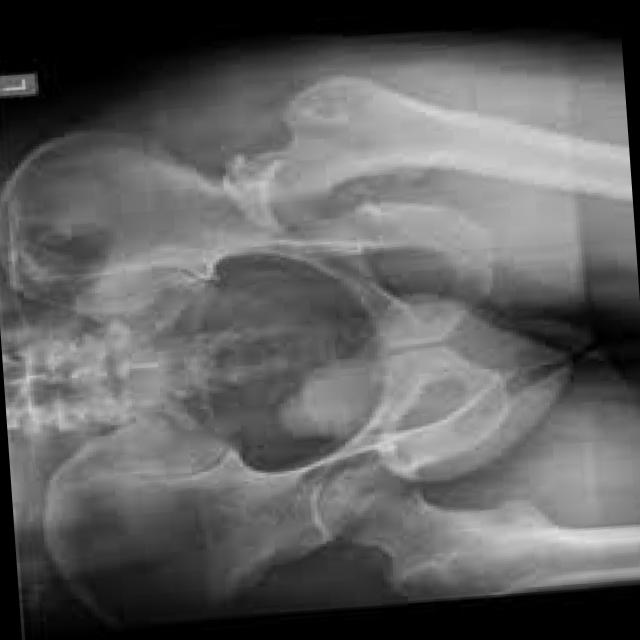left-dislocation: (220, 75, 574, 227)
normal-right: (320, 463, 640, 602)
